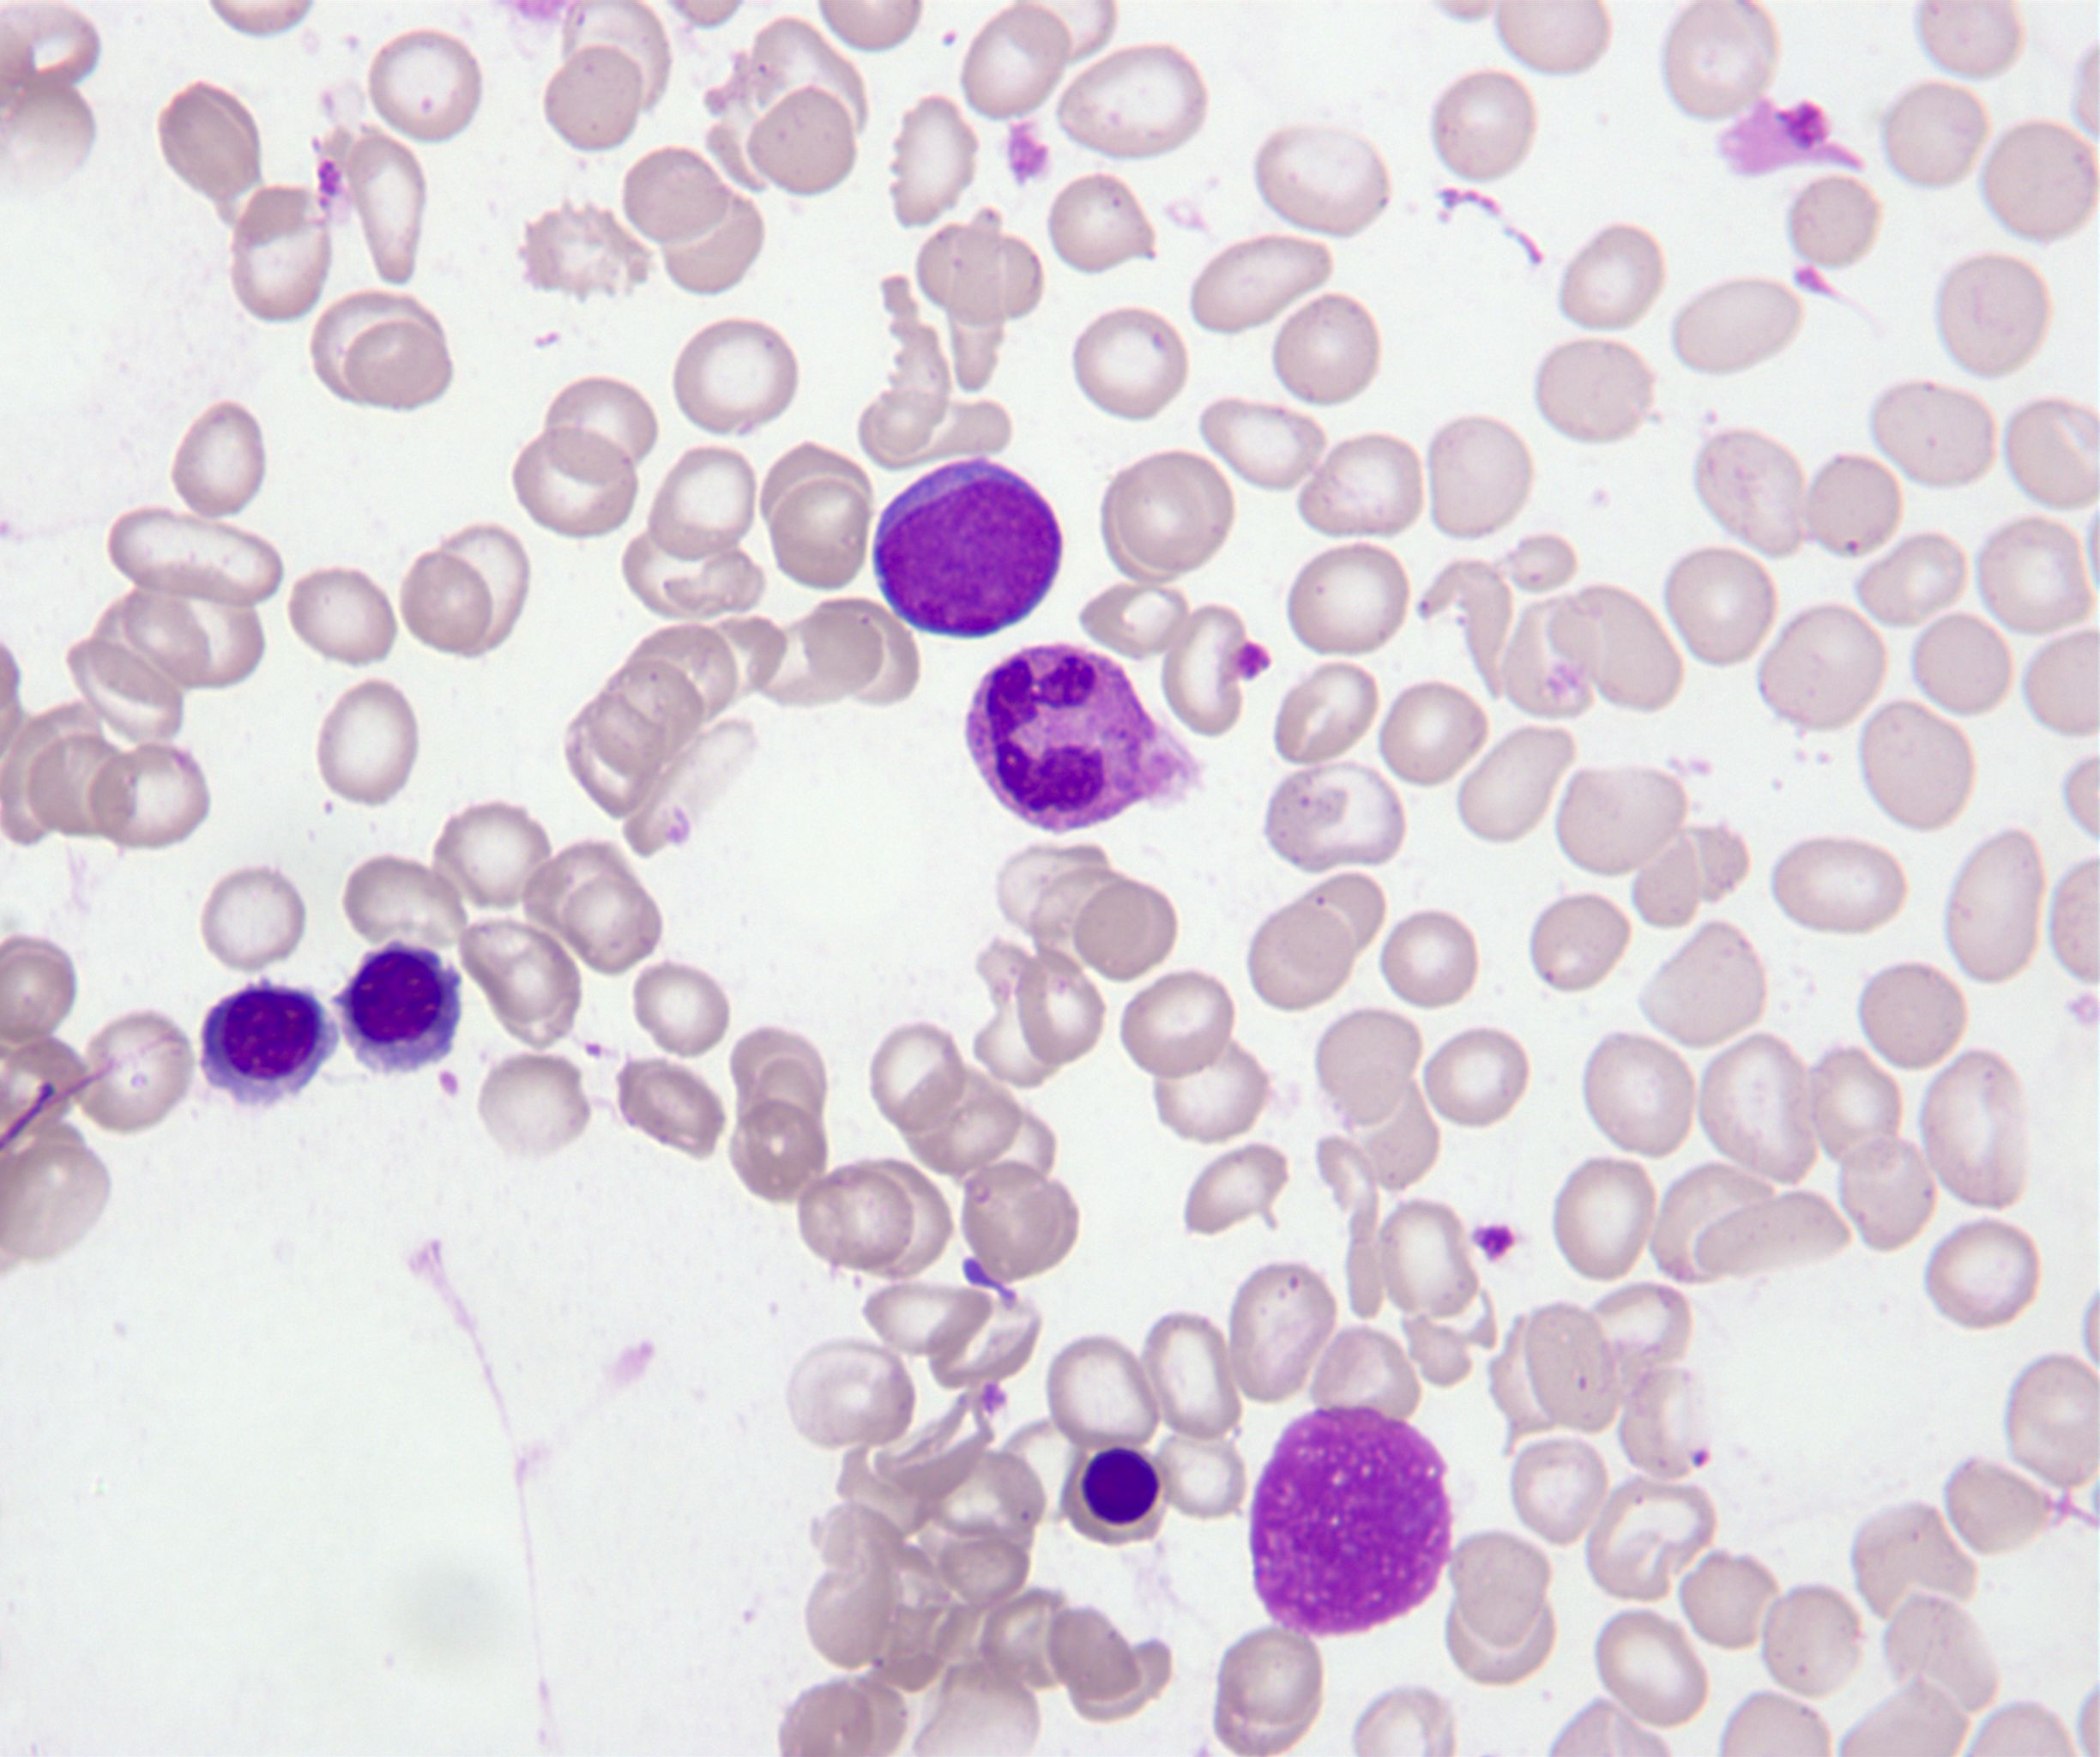1: (872, 459, 1060, 639)
23: (337, 937, 459, 1077), (202, 986, 338, 1110)
24: (1060, 1443, 1167, 1546)
6: (966, 646, 1203, 834)
x: (1251, 1403, 1455, 1638)
